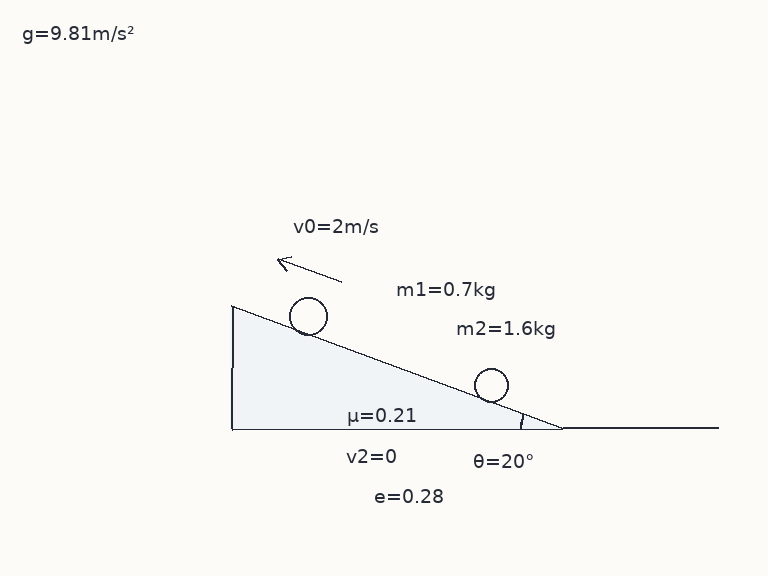ball: (287, 295, 329, 337), (472, 366, 510, 404)
ramp: (228, 306, 563, 430)
